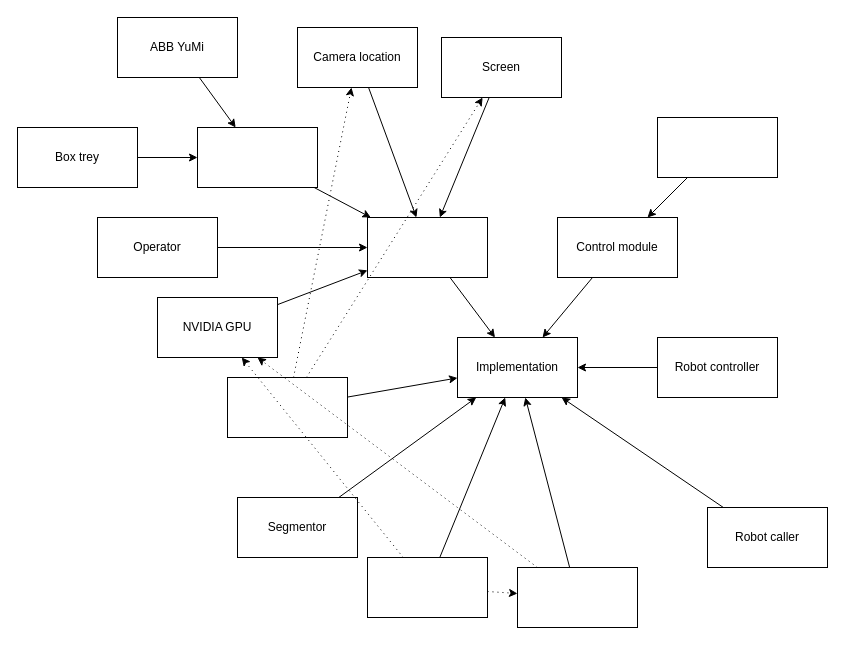
Image size: 845x645. Some labels were removed from this diagram. Each missing label, with the centre of its shape:
"Classifier" belongs at point (427, 587).
"MQTT" belongs at point (717, 147).
"Prodigy cell" belongs at point (257, 157).
"System setup" belongs at point (427, 247).
"User interface" belongs at point (287, 407).
"Validator" belongs at point (577, 597).
